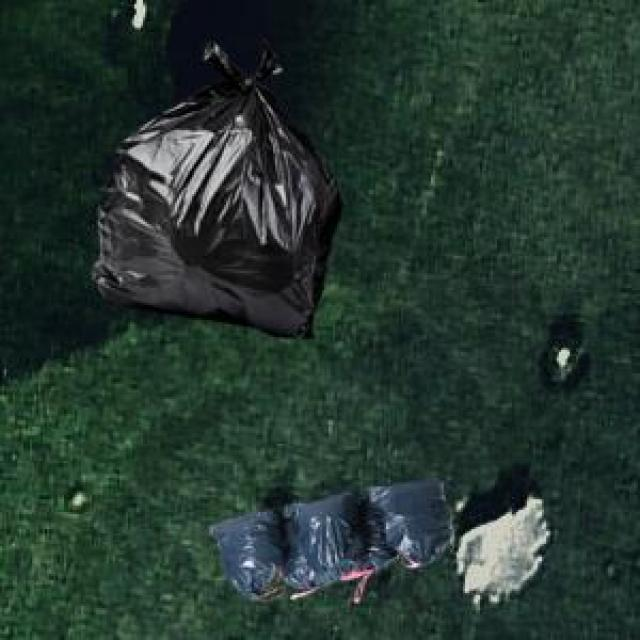waste: (94, 42, 340, 334), (210, 481, 452, 598)
